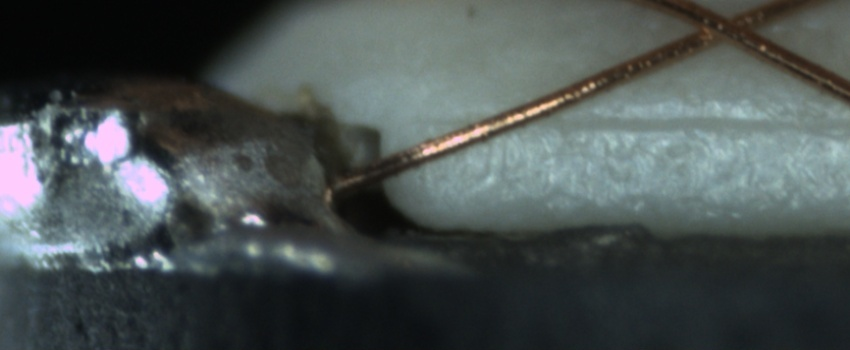CL: (673, 0, 775, 57)
DL: (417, 95, 850, 158)
